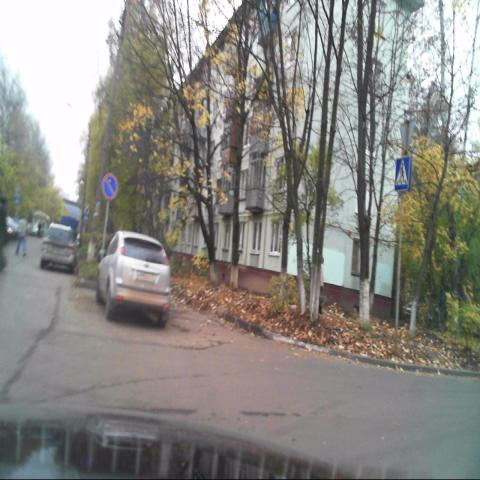3_28: (102, 172, 118, 200)
